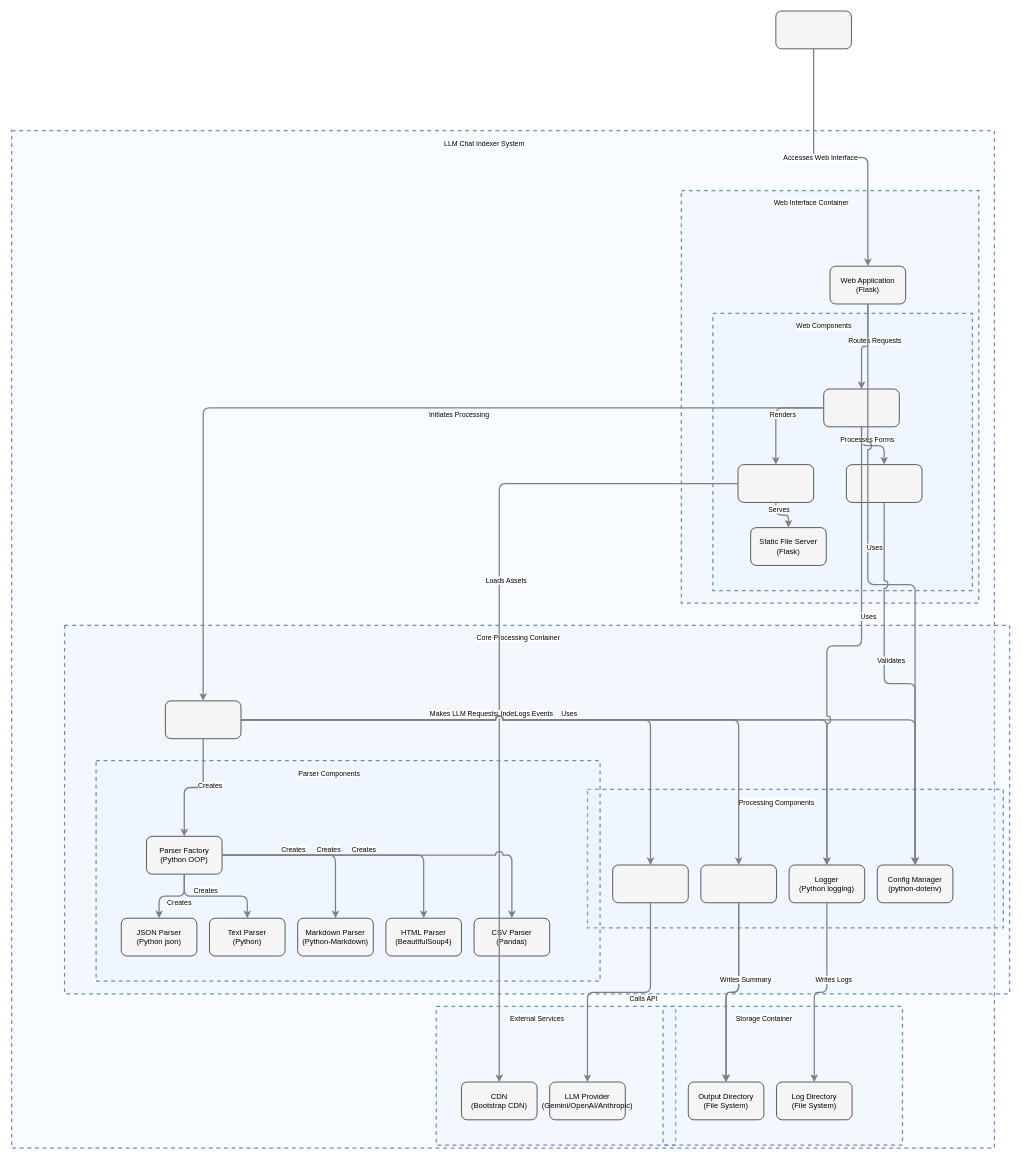
This 1021x1160 diagram has some shape labels left out. Here are the shapes that lost their labels. From the top down, the centre of each, then its label:
the point at 813,29: User
the point at 861,407: Route Handler (Flask Blueprint)
the point at 775,483: Template Engine (Jinja2)
the point at 884,483: Form Handler (Flask-WTF)
the point at 203,719: File Processor (Python)
the point at 650,883: LLM Client (LiteLLM)
the point at 738,883: Index Builder (Python)
